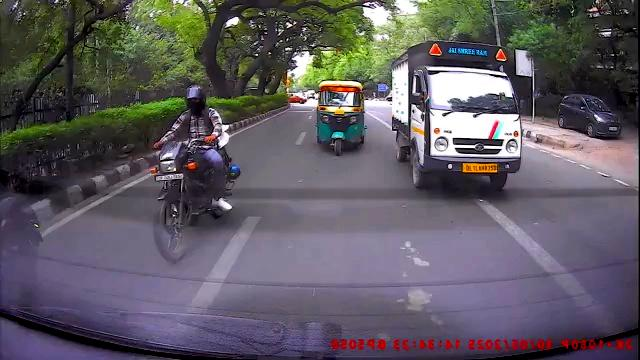motorcycle_with_helmet: (148, 81, 239, 263)
